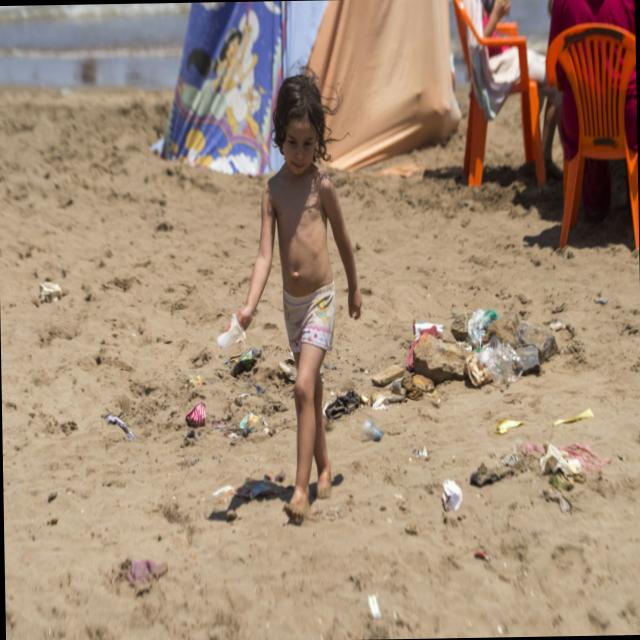garbage: (358, 282, 614, 556)
